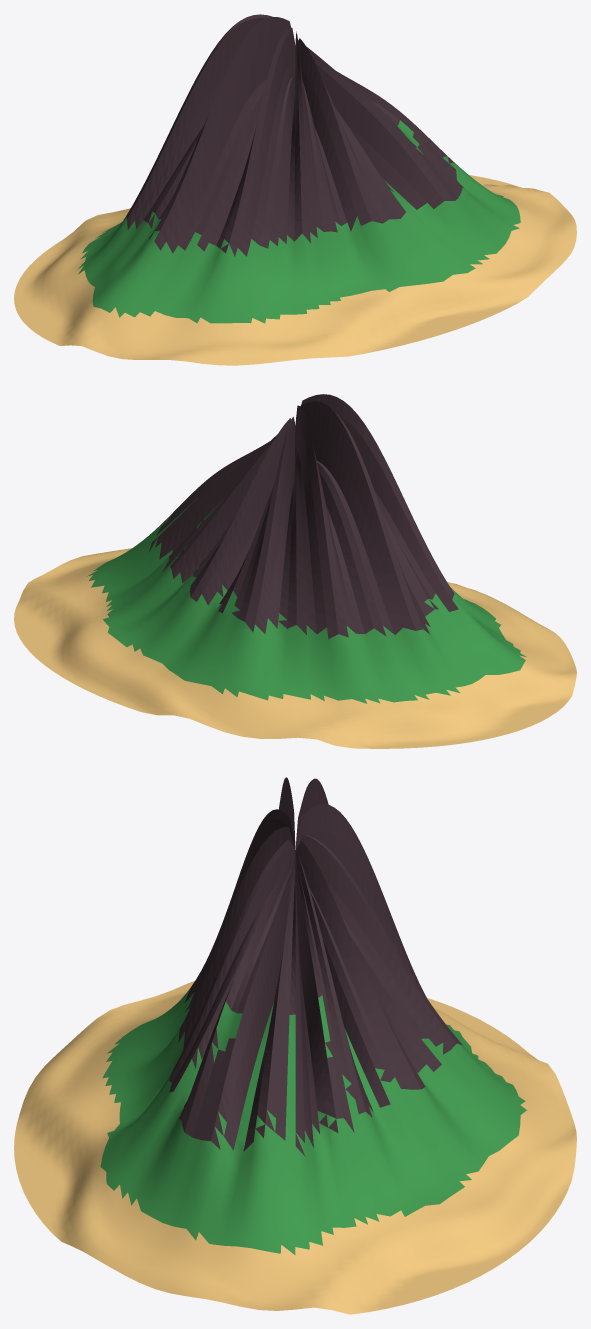
File: BumperFarIslandA.obj
3 renders of one model, top to bottom at view 1: azimuth 30°, elevation 25°; view 2: azimuth 150°, elevation 25°; view 3: azimuth 270°, elevation 25°, orthographic. The views are drawn at different scales.
Parts seen in each view (by area): view 1: Rock, Sand, Jungle; view 2: Rock, Sand, Jungle; view 3: Sand, Rock, Jungle.
Boxes of the visible parts, x1=… form: Rock: x1=126, y1=14, x2=463, y2=256; Sand: x1=14, y1=175, x2=576, y2=365; Jungle: x1=78, y1=120, x2=520, y2=323; Rock: x1=148, y1=394, x2=458, y2=638; Sand: x1=14, y1=548, x2=576, y2=748; Jungle: x1=87, y1=495, x2=526, y2=703; Sand: x1=14, y1=981, x2=576, y2=1314; Rock: x1=169, y1=777, x2=462, y2=1156; Jungle: x1=100, y1=987, x2=526, y2=1254.
Bounding box in the file's own units: 200 × 95.18 × 140.
